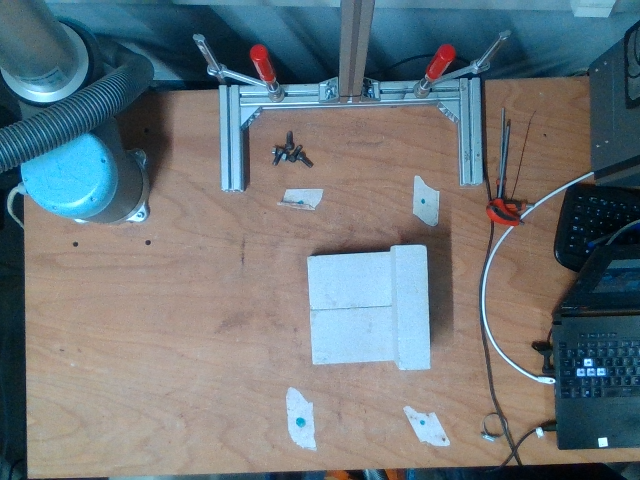brick-side: (393, 247, 431, 369)
